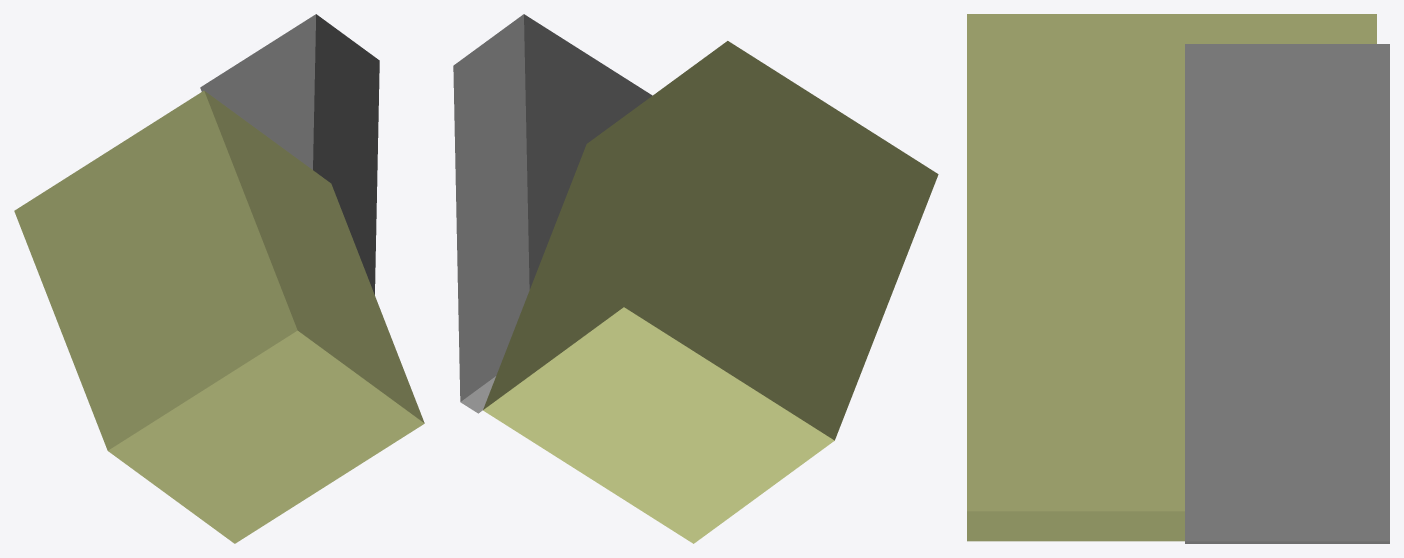
The picture shows the model from 3 angles, left to right: view 1: azimuth 30°, elevation 25°; view 2: azimuth 150°, elevation 25°; view 3: azimuth 270°, elevation 25°; orthographic projection. The views are drawn at different scales.
Parts seen in each view (by area): view 1: 0_2_0_1_1_1_1_1_2_0_2; view 2: 0_2_0_1_1_1_1_1_2_0_2; view 3: 0_2_0_1_1_1_1_1_2_0_2.
Part boxes in pixels (<box>): 0_2_0_1_1_1_1_1_2_0_2: <box>14,14,424,543</box>; 0_2_0_1_1_1_1_1_2_0_2: <box>453,14,938,543</box>; 0_2_0_1_1_1_1_1_2_0_2: <box>967,14,1389,543</box>.
Size of the model in its own units: 8.34 by 9.95 by 6.19.
